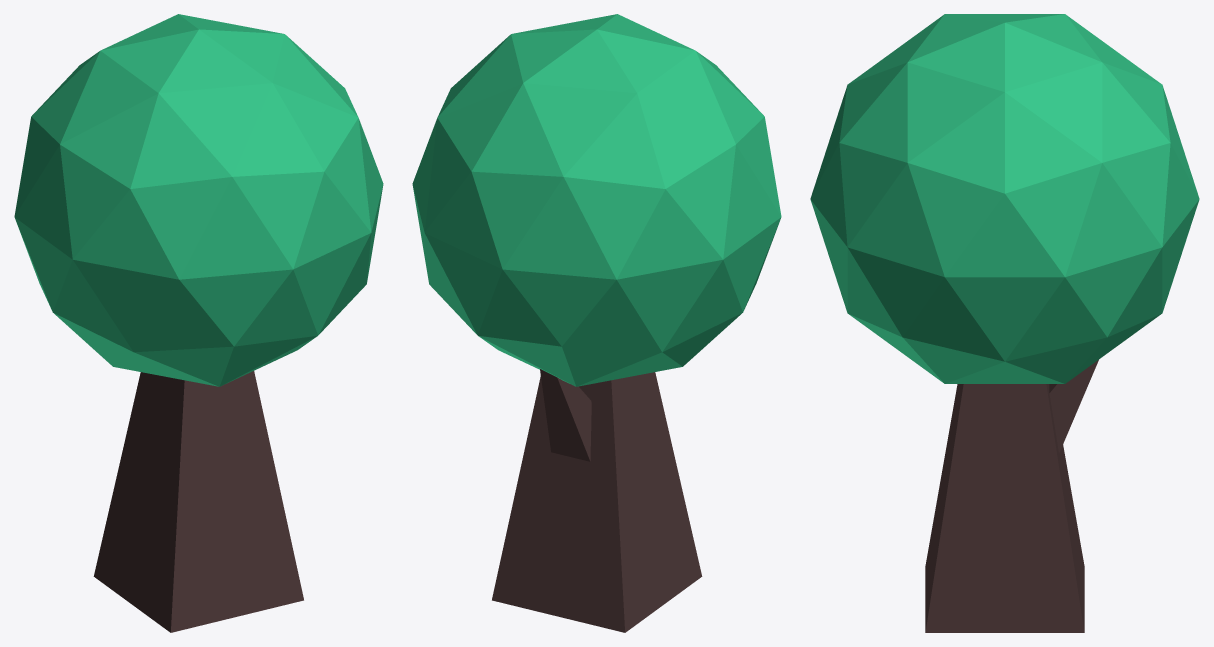
File: ArbolTipo3.2.fbx
3 renders of one model, left to right at view 1: azimuth 30°, elevation 25°; view 2: azimuth 150°, elevation 25°; view 3: azimuth 270°, elevation 25°, orthographic. The views are drawn at different scales.
Visible parts, largest first — view 1: Icosphere, Cube; view 2: Icosphere, Cube, Cube.001; view 3: Icosphere, Cube, Cube.001.
Boxes of the visible parts, x1,y1,x2,y2 form: Icosphere: [14, 14, 383, 386]; Cube: [93, 371, 303, 632]; Icosphere: [412, 14, 781, 386]; Cube: [492, 372, 702, 632]; Cube.001: [540, 369, 591, 461]; Icosphere: [810, 14, 1199, 383]; Cube: [925, 384, 1084, 632]; Cube.001: [1049, 360, 1098, 453].
Bounding box in the file's own units: 289 × 496 × 304.
